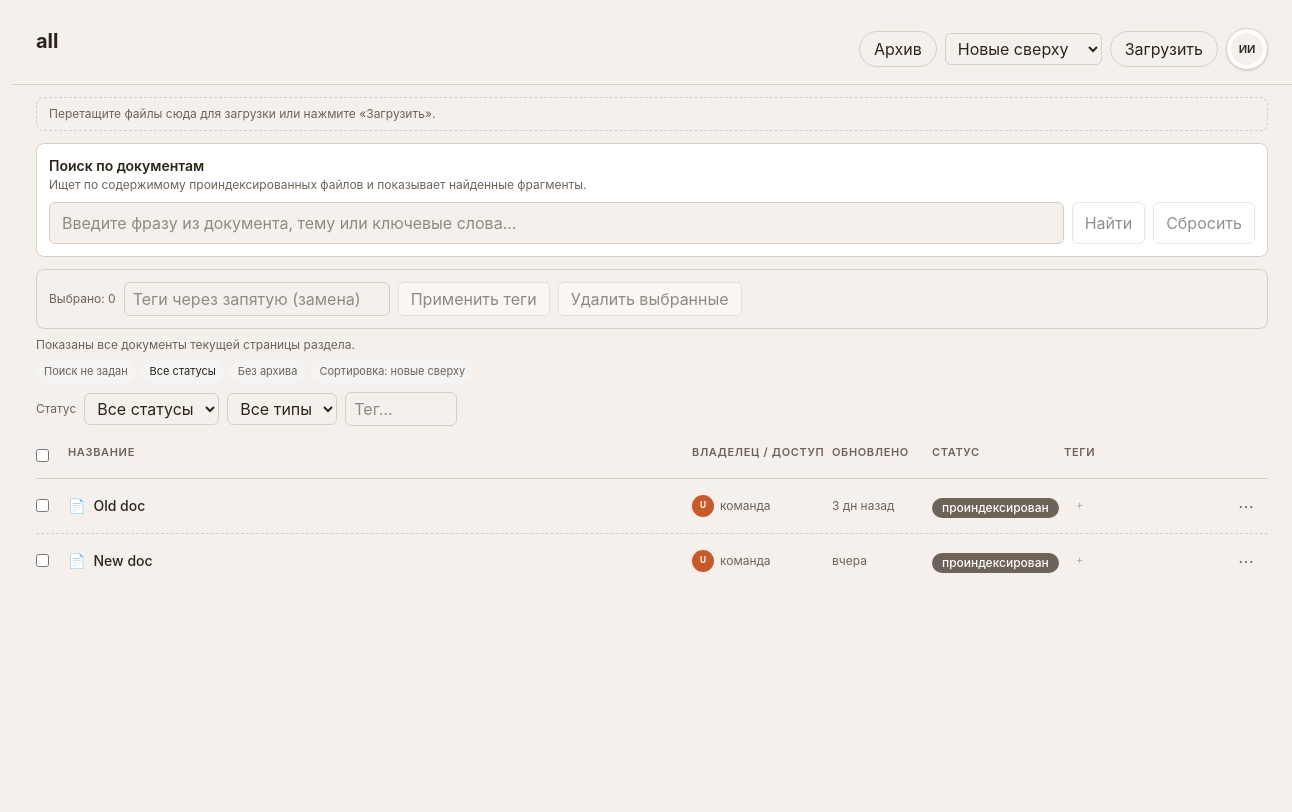
Test case: changes sort via dropdown and updates URL
expect the text "Old doc" is shown: met, box [94,496,145,516]
expect the text "New doc" is shown: met, box [94,550,153,570]
Select "Старые сверху" in the dropdown named "Сортировка" at coordinates (1023, 49), box [945,33,1102,65]
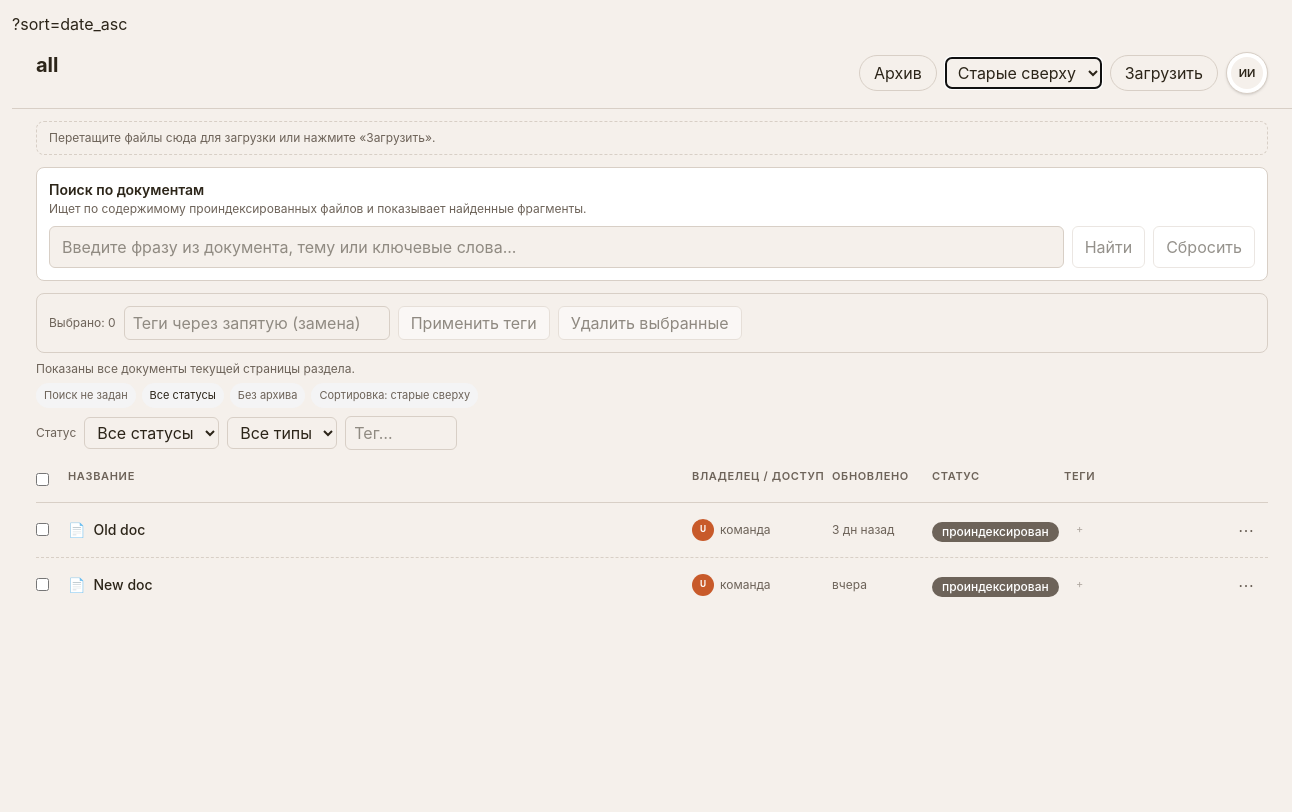
expect the text with test id "location-search" reads "?sort=date_asc": met, box [12,14,127,34]
Select "Имя А→Я" in the dropdown named "Сортировка" at coordinates (1023, 73), box [945,57,1102,89]
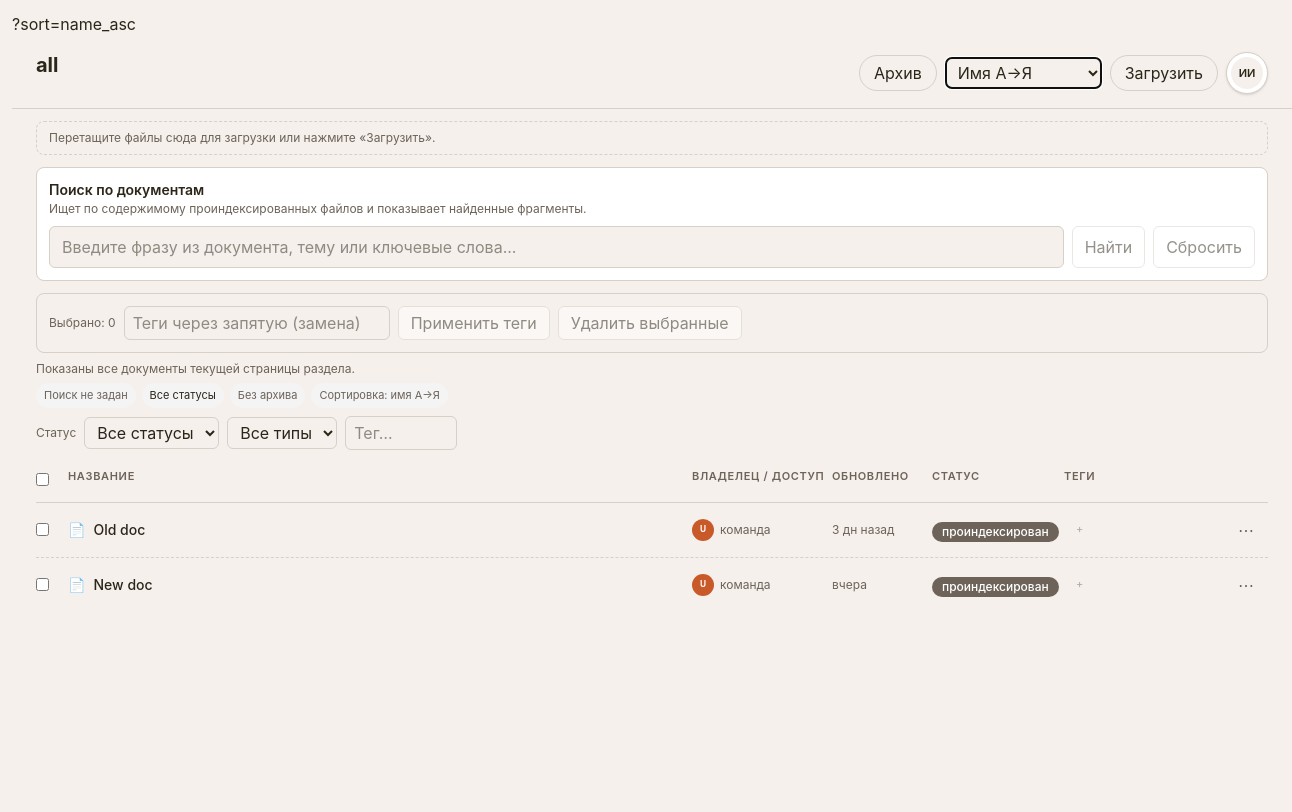
expect the text with test id "location-search" reads "?sort=name_asc": met, box [12,14,136,34]
